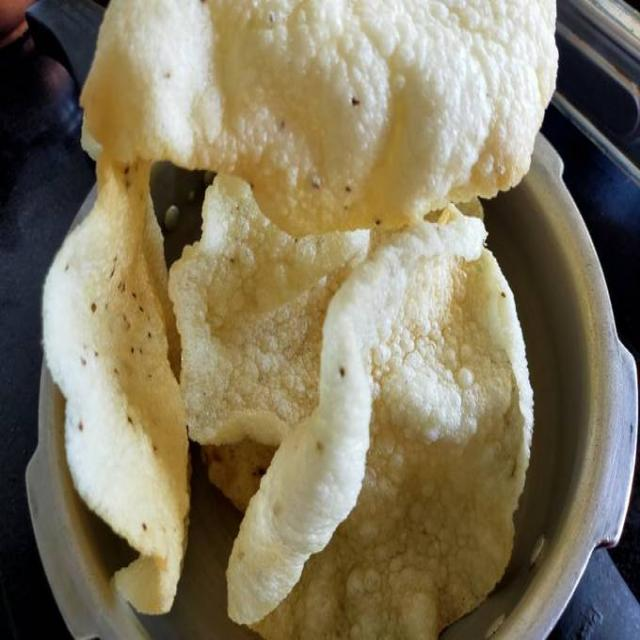papad: (219, 223, 536, 627), (83, 0, 564, 201), (40, 148, 191, 614), (164, 170, 353, 492)
